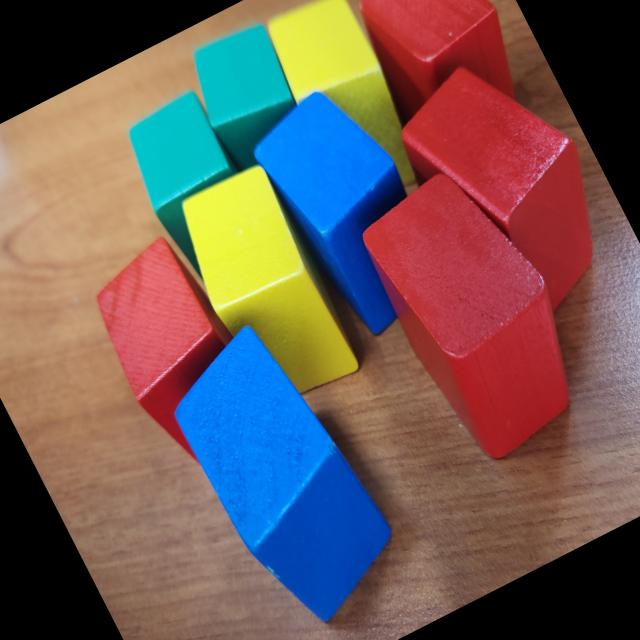blue: (152, 309, 417, 640), (238, 72, 462, 352)
green: (111, 88, 277, 292), (177, 18, 322, 180)
red: (345, 154, 608, 476), (377, 31, 640, 343), (74, 226, 280, 479), (336, 0, 539, 155)
yellow: (162, 158, 368, 417), (257, 0, 439, 213)
